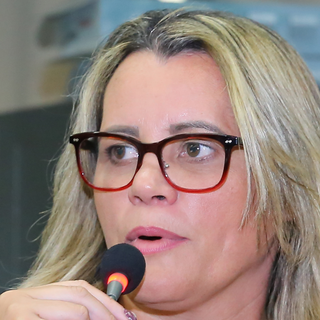eye: (177, 139, 221, 162), (95, 141, 135, 164)
